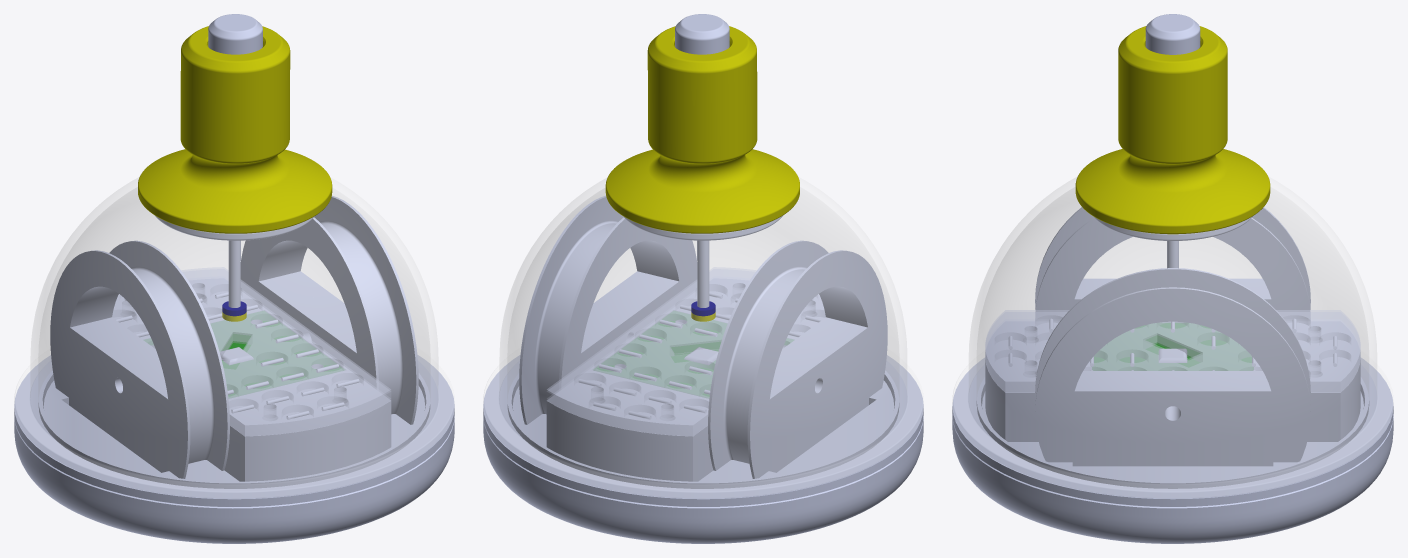
File: CAD-MLX90396_Demo.glb
3 renders of one model, left to right at view 1: azimuth 30°, elevation 25°; view 2: azimuth 150°, elevation 25°; view 3: azimuth 270°, elevation 25°, orthographic.
Parts seen in each view (by area): view 1: Dome-1, BottomBodyCoilTest2-1, CoilRoundLarge-1, Joystick-1, Snowglobe, TestCompass2-1, RingDome-1, JoystickButton-1, MelexisPCB-1, JoystickInnerPart-1, M3 rod-1; view 2: Dome-1, BottomBodyCoilTest2-1, CoilRoundLarge-1, Joystick-1, Snowglobe, TestCompass2-1, RingDome-1, JoystickButton-1, MelexisPCB-1, JoystickInnerPart-1, M3 rod-1; view 3: Dome-1, Snowglobe, BottomBodyCoilTest2-1, Joystick-1, RingDome-1, TestCompass2-1, CoilRoundLarge-1, JoystickButton-1, MelexisPCB-1, JoystickInnerPart-1.
Boxes of the visible parts, box(x1,y1,x2,y2) form: Dome-1: box(15, 178, 453, 498); BottomBodyCoilTest2-1: box(14, 285, 454, 543); CoilRoundLarge-1: box(50, 240, 229, 478); Joystick-1: box(138, 26, 332, 233); Snowglobe: box(240, 195, 418, 424); TestCompass2-1: box(112, 267, 391, 435); RingDome-1: box(14, 355, 454, 506); JoystickButton-1: box(208, 14, 262, 54); MelexisPCB-1: box(154, 321, 341, 396); JoystickInnerPart-1: box(155, 215, 314, 240); M3 rod-1: box(228, 240, 240, 307); Dome-1: box(484, 178, 922, 498); BottomBodyCoilTest2-1: box(483, 285, 923, 543); CoilRoundLarge-1: box(708, 240, 887, 478); Joystick-1: box(605, 26, 799, 233); Snowglobe: box(519, 195, 697, 424); TestCompass2-1: box(546, 267, 825, 435); RingDome-1: box(483, 355, 923, 506); JoystickButton-1: box(675, 14, 729, 54); MelexisPCB-1: box(596, 321, 783, 396); JoystickInnerPart-1: box(623, 215, 782, 240); M3 rod-1: box(697, 240, 709, 307); Dome-1: box(953, 177, 1392, 497); Snowglobe: box(1035, 268, 1310, 466); BottomBodyCoilTest2-1: box(952, 322, 1393, 543); Joystick-1: box(1075, 26, 1270, 234); RingDome-1: box(952, 358, 1393, 506); TestCompass2-1: box(985, 310, 1360, 392); CoilRoundLarge-1: box(1035, 207, 1310, 319); JoystickButton-1: box(1145, 14, 1200, 54); MelexisPCB-1: box(1094, 323, 1251, 367); JoystickInnerPart-1: box(1093, 216, 1252, 240).
Bounding box in the file's own units: 0.1088 × 0.1251 × 0.1088.
